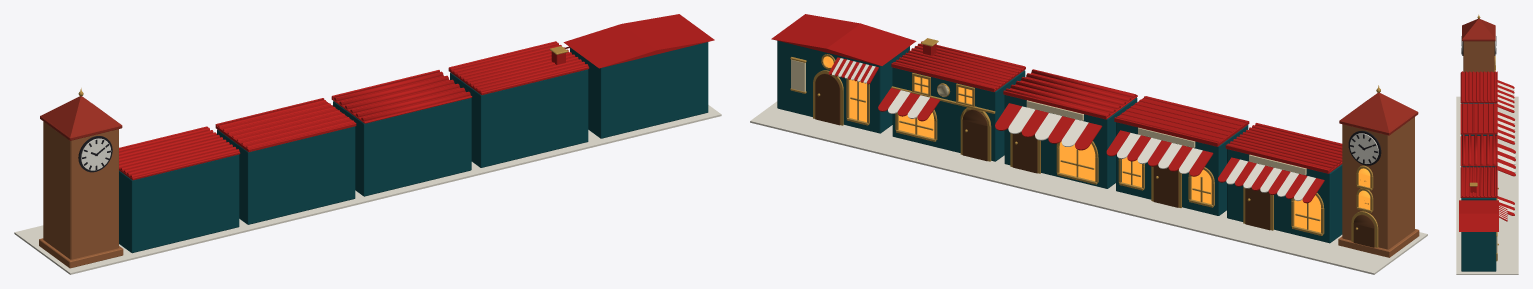
File: town-row-v02.glb
3 views of the same model, side by side, from view 1: azimuth 30°, elevation 25°; view 2: azimuth 150°, elevation 25°; view 3: azimuth 270°, elevation 25° (orthographic). The views are drawn at different scales.
Visible parts, largest first — view 1: SM_tower_shaft, SM_shopfront_box, SM_bldgC_box, SM_bldgD_box, SM_bldgB_box, SM_bldgA_box, SM_row_ground, SM_bldgD_roof, SM_bldgA_trim, SM_bldgC_roof, SM_bldgB_trim, SM_roof_trim (+2 smaller); view 2: SM_row_ground, SM_tower_shaft, SM_bldgD_roof, SM_bldgD_box, SM_bldgC_roof, SM_bldgC_box, SM_bldgA_trim, SM_bldgB_trim, SM_roof_trim, SM_shopfront_box, SM_bldgB_awning, SM_bldgA_awning (+24 smaller); view 3: SM_row_ground, SM_bldgD_box, SM_bldgD_roof, SM_bldgA_trim, SM_bldgB_trim, SM_roof_trim, SM_bldgC_roof, SM_tower_shaft, SM_tower_roof, SM_bldgB_awning, SM_bldgA_awning, SM_awning (+4 smaller).
Part boxes in pixels (<box>): SM_tower_shaft: <box>39,121,123,268</box>; SM_shopfront_box: <box>119,154,239,253</box>; SM_bldgC_box: <box>450,69,588,167</box>; SM_bldgD_box: <box>570,42,708,138</box>; SM_bldgB_box: <box>333,98,471,196</box>; SM_bldgA_box: <box>217,126,355,224</box>; SM_row_ground: <box>14,105,721,274</box>; SM_bldgD_roof: <box>563,14,714,68</box>; SM_bldgA_trim: <box>215,98,356,152</box>; SM_bldgC_roof: <box>448,41,589,95</box>; SM_bldgB_trim: <box>331,70,472,123</box>; SM_roof_trim: <box>119,126,240,180</box>; SM_row_ground: <box>750,101,1427,274</box>; SM_tower_shaft: <box>1338,117,1419,257</box>; SM_bldgD_roof: <box>771,14,916,65</box>; SM_bldgD_box: <box>777,40,909,133</box>; SM_bldgC_roof: <box>891,38,1025,92</box>; SM_bldgC_box: <box>892,67,1025,161</box>; SM_bldgA_trim: <box>1114,96,1249,146</box>; SM_bldgB_trim: <box>1003,69,1137,119</box>; SM_roof_trim: <box>1225,123,1342,173</box>; SM_shopfront_box: <box>1227,149,1342,243</box>; SM_bldgB_awning: <box>995,103,1102,150</box>; SM_bldgA_awning: <box>1106,130,1213,176</box>; SM_row_ground: <box>1456,96,1518,274</box>; SM_bldgD_box: <box>1461,232,1496,271</box>; SM_bldgD_roof: <box>1459,200,1498,231</box>; SM_bldgA_trim: <box>1460,103,1497,134</box>; SM_bldgB_trim: <box>1460,134,1497,166</box>; SM_roof_trim: <box>1460,71,1497,102</box>; SM_bldgC_roof: <box>1460,166,1497,197</box>; SM_tower_shaft: <box>1463,41,1494,72</box>; SM_tower_roof: <box>1462,18,1495,41</box>; SM_bldgB_awning: <box>1496,143,1515,176</box>; SM_bldgA_awning: <box>1496,112,1515,144</box>; SM_awning: <box>1496,80,1514,112</box>.
Bounding box in the file's own units: 24.13 × 5.84 × 3.59.
